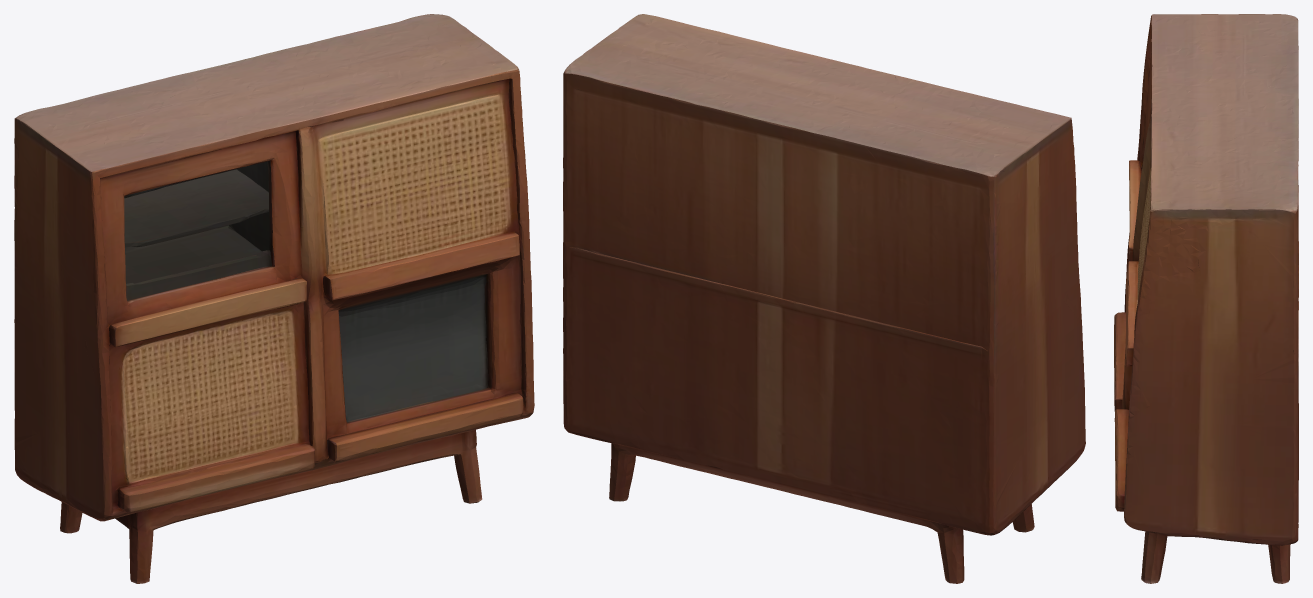
The model's file is ast_f4ad4e548d88.glb.
The picture shows the model from 3 angles, left to right: view 1: azimuth 30°, elevation 25°; view 2: azimuth 150°, elevation 25°; view 3: azimuth 270°, elevation 25°; orthographic projection. The views are drawn at different scales.
Parts seen in each view (by area): view 1: geometry_0; view 2: geometry_0; view 3: geometry_0.
Boxes of the visible parts, bbox=[...] form: geometry_0: bbox=[14, 14, 534, 583]; geometry_0: bbox=[563, 14, 1085, 583]; geometry_0: bbox=[1114, 14, 1298, 583].
Bounding box in the file's own units: 1 × 0.9369 × 0.3995.
Materials: 1 (1 with a texture image).
